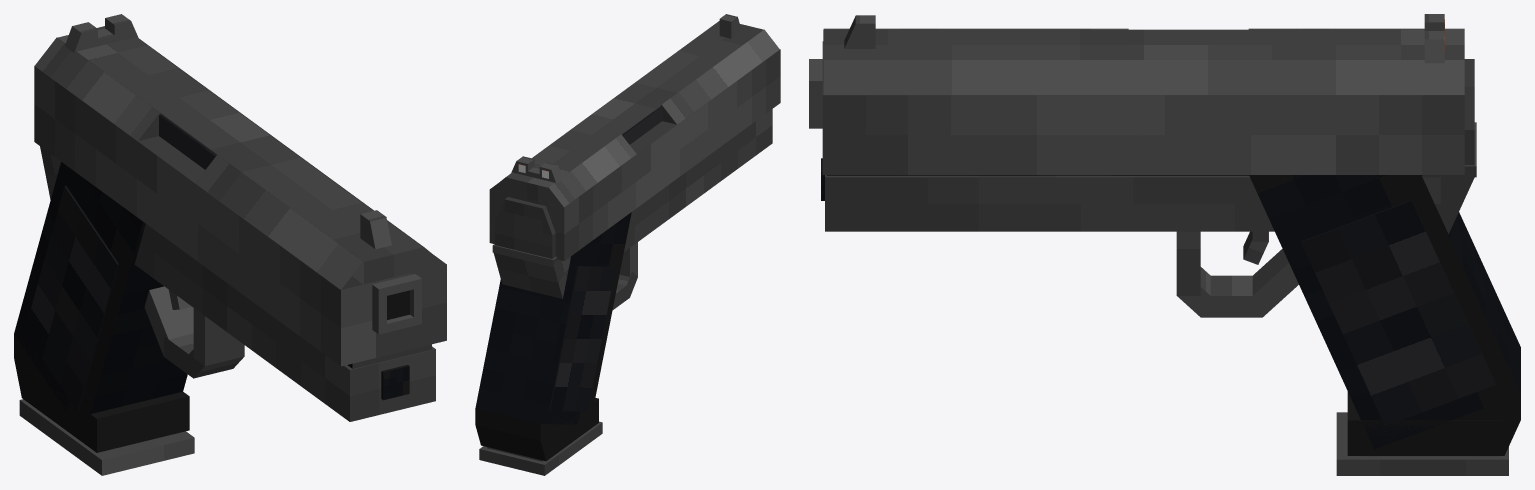
File: pistol.gltf
The picture shows the model from 3 angles, left to right: view 1: azimuth 30°, elevation 25°; view 2: azimuth 150°, elevation 25°; view 3: azimuth 270°, elevation 25°; orthographic projection. The views are drawn at different scales.
Visible parts, largest first — view 1: handle (×4), barrel, barrel_top, barrel_low, barrel_slant3, barrel_slant2, mag, trigger_guard_2 (×2), trigger_guard_3, exaust, trigger_guard_1, barrel 2 (+8 smaller); view 2: handle (×5), barrel, barrel_top, barrel_low, barrel_slant3, barrel_slant2, barrel_low_back, sight_3 (×2), mag, sight_6, exaust, trigger_guard_2 (+2 smaller); view 3: handle (×4), barrel, barrel_low, barrel_slant1, barrel_top, mag, trigger_guard_2 (×2), trigger_guard_3, trigger_guard_1, barrel_low_back, barrel_2.
Part boxes in pixels (x1,y1,x2,y2): handle (×4): [14, 162, 189, 452]; barrel: [34, 65, 446, 366]; barrel_top: [58, 26, 423, 284]; barrel_low: [134, 224, 435, 421]; barrel_slant3: [195, 155, 363, 289]; barrel_slant2: [35, 37, 160, 140]; mag: [19, 399, 194, 475]; trigger_guard_2 (×2): [189, 308, 244, 378]; trigger_guard_3: [144, 286, 193, 356]; exaust: [159, 115, 215, 169]; trigger_guard_1: [164, 333, 193, 378]; barrel 2: [381, 365, 409, 400]; handle (×5): [475, 212, 631, 461]; barrel: [489, 49, 780, 260]; barrel_top: [506, 21, 763, 203]; barrel_low: [570, 109, 772, 259]; barrel_slant3: [661, 29, 779, 124]; barrel_slant2: [548, 134, 636, 207]; barrel_low_back: [493, 253, 570, 298]; sight_3 (×2): [492, 221, 557, 267]; mag: [479, 421, 602, 475]; sight_6: [504, 197, 545, 232]; exaust: [622, 106, 662, 144]; trigger_guard_2: [619, 242, 637, 276]; handle (×4): [1249, 175, 1520, 455]; barrel: [822, 41, 1464, 174]; barrel_low: [825, 175, 1440, 231]; barrel_slant1: [823, 60, 1464, 94]; barrel_top: [823, 29, 1464, 83]; mag: [1336, 412, 1508, 475]; trigger_guard_2 (×2): [1176, 231, 1217, 316]; trigger_guard_3: [1246, 249, 1298, 317]; trigger_guard_1: [1200, 275, 1262, 317]; barrel_low_back: [1440, 177, 1474, 233]; barrel_2: [809, 77, 822, 128].
Size of the model in its own units: 0.1 by 0.3734 by 0.5566.
Materials: 4 (4 with a texture image).
